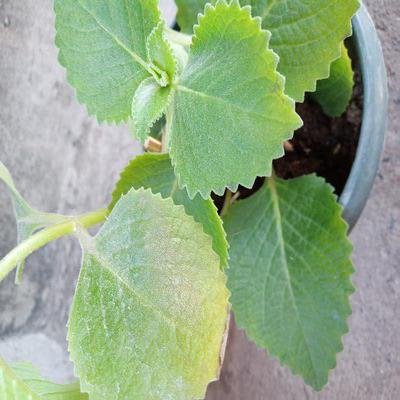Oregano: (67, 1, 384, 264)
